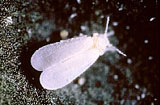whitefly: (31, 17, 126, 89)
